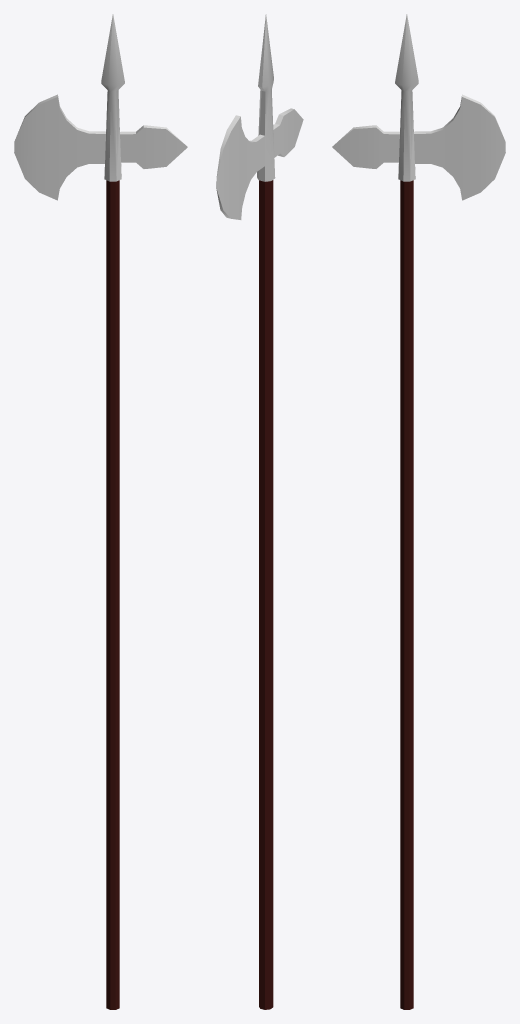
Rendered from Halberd lowpoly.fbx.
3 views of the same model, side by side, from view 1: azimuth 90°, elevation 25°; view 2: azimuth 150°, elevation 25°; view 3: azimuth 270°, elevation 25° (orthographic).
Parts seen in each view (by area): view 1: Cylinder; view 2: Cylinder; view 3: Cylinder.
Part boxes in pixels (x1=…): Cylinder: x1=14, y1=14, x2=187, y2=1009; Cylinder: x1=216, y1=14, x2=303, y2=1009; Cylinder: x1=332, y1=14, x2=505, y2=1009.
Size of the model in its own units: 7.25 by 465 by 73.65.
